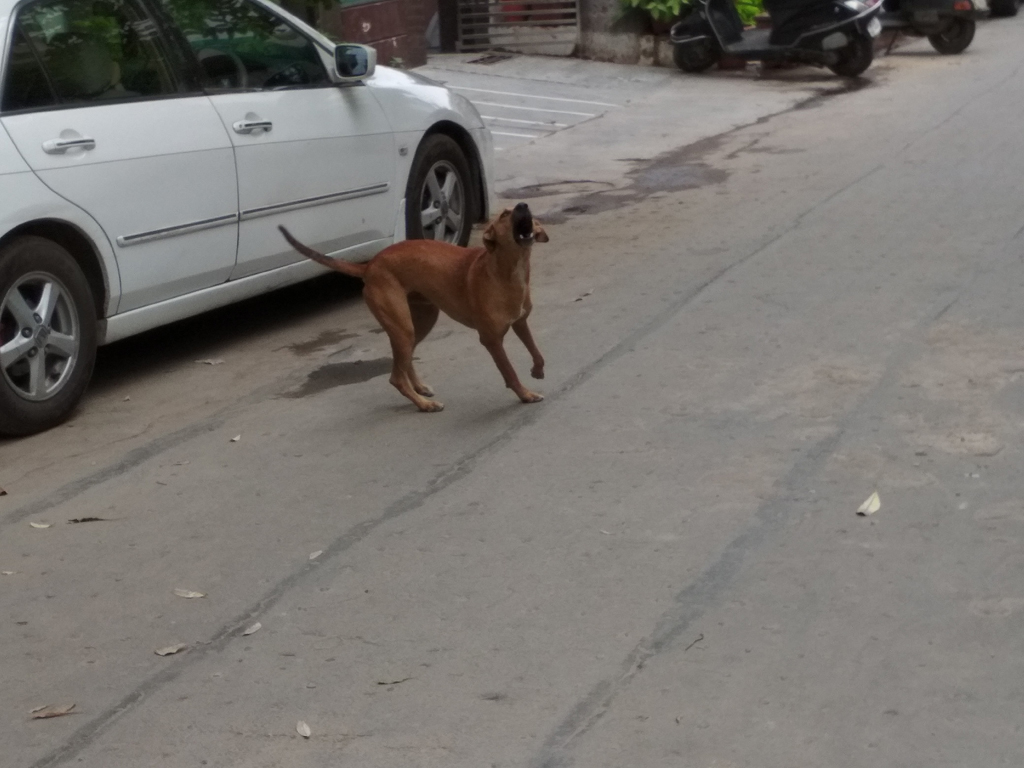dog: (279, 203, 550, 411)
